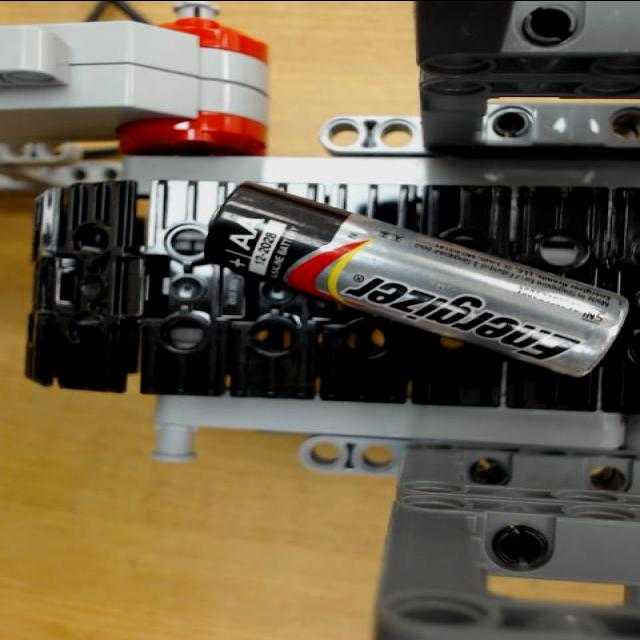AA: (203, 180, 628, 380)
